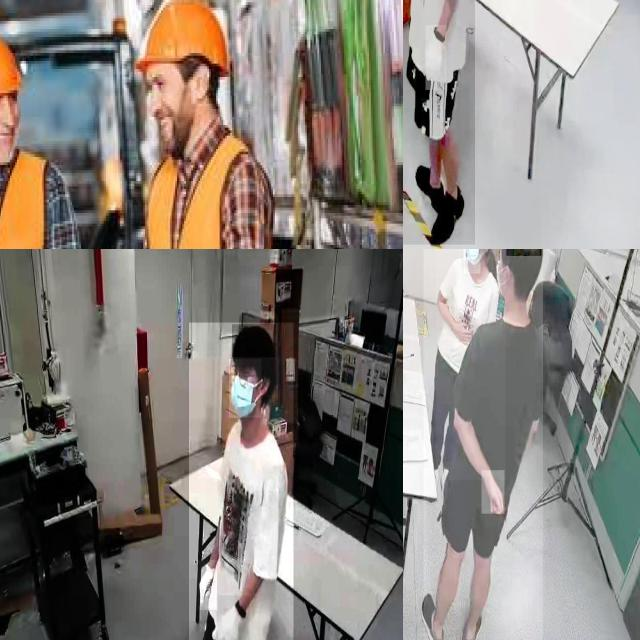No_Ear-Protection: (186, 53, 214, 108)
No_Glasses: (146, 64, 173, 103), (0, 86, 19, 120)
face_mask: (229, 359, 261, 418), (463, 249, 480, 274)
hand_glove: (216, 595, 249, 640), (425, 25, 447, 91), (198, 560, 218, 610)
hand_noglove: (481, 470, 505, 515), (453, 320, 472, 346)
head_nohelmet: (232, 324, 276, 358)
person: (423, 249, 543, 640), (189, 322, 294, 640), (403, 0, 475, 245), (436, 249, 505, 480)
shoes: (425, 171, 469, 249), (412, 155, 444, 208), (416, 593, 445, 640), (455, 604, 485, 640)
